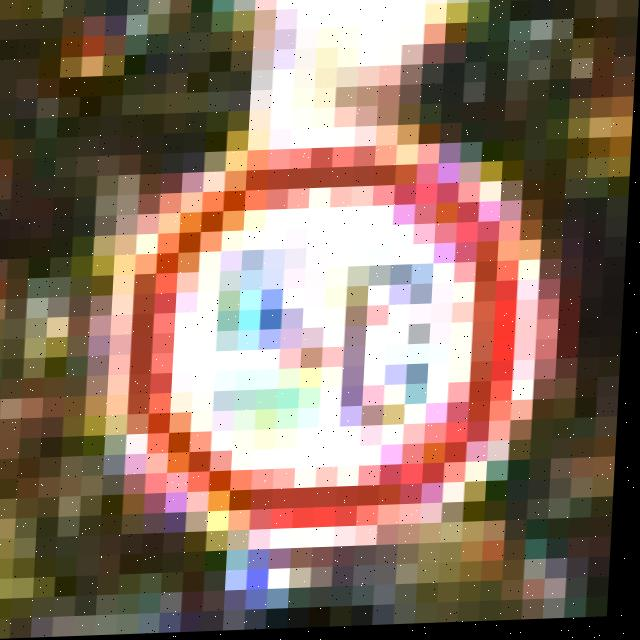speed_limit_20: (95, 135, 583, 587)
